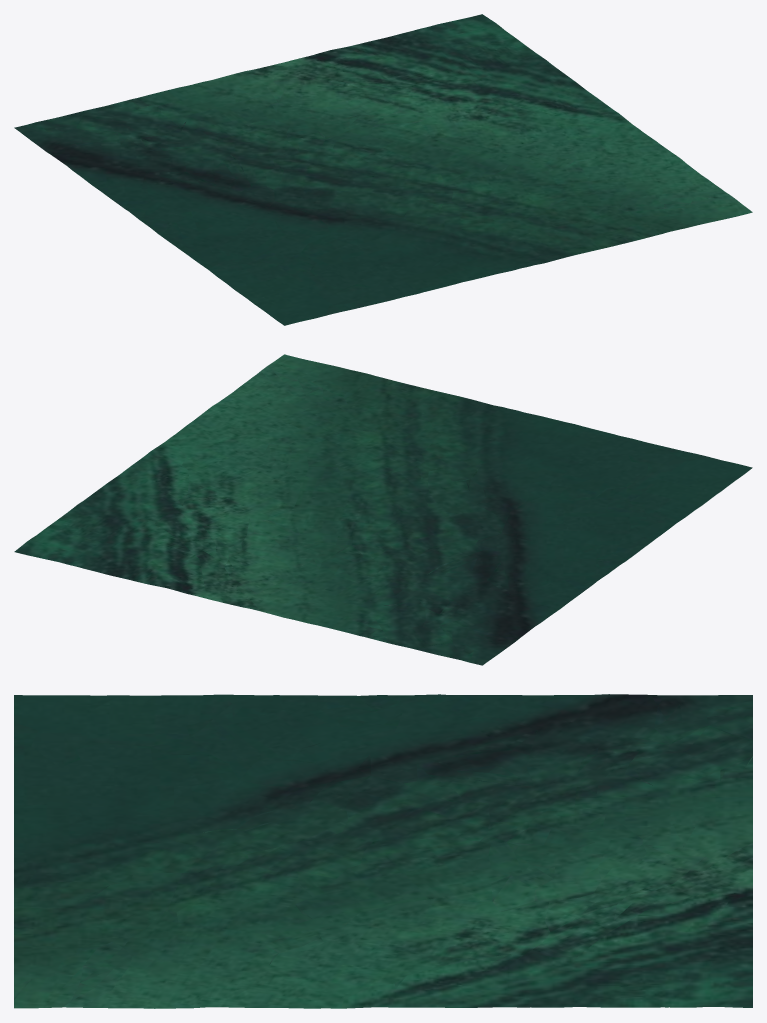
The picture shows the model from 3 angles, top to bottom: view 1: azimuth 30°, elevation 25°; view 2: azimuth 150°, elevation 25°; view 3: azimuth 270°, elevation 25°; orthographic projection. The views are drawn at different scales.
Bounding box in the file's own units: 209 × 0.8324 × 209.
2 materials, 2 textured.
